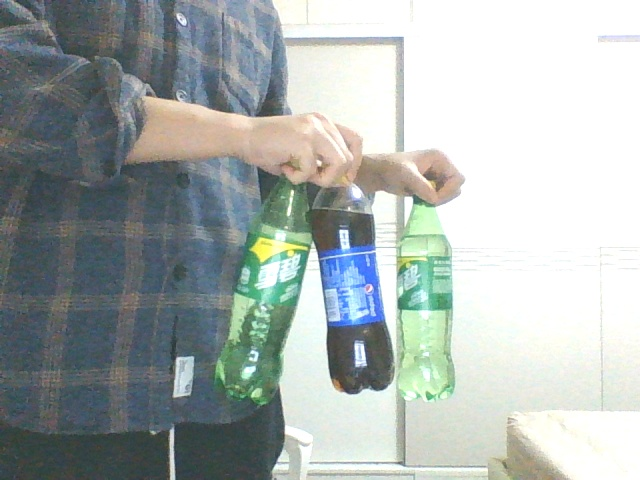Cola: (314, 186, 394, 394)
Sprite: (214, 168, 313, 404), (397, 184, 457, 403)
